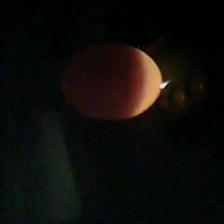fertile: (60, 41, 164, 120)
